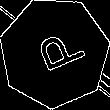P_SW: (24, 25, 85, 80)
